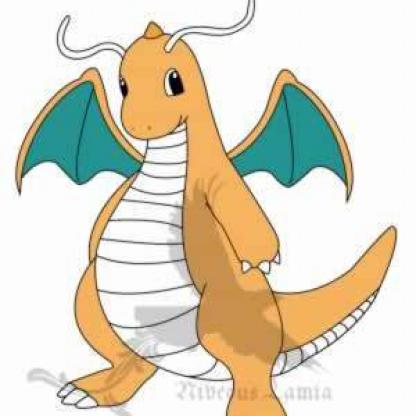Dragonite: (12, 1, 402, 416)
